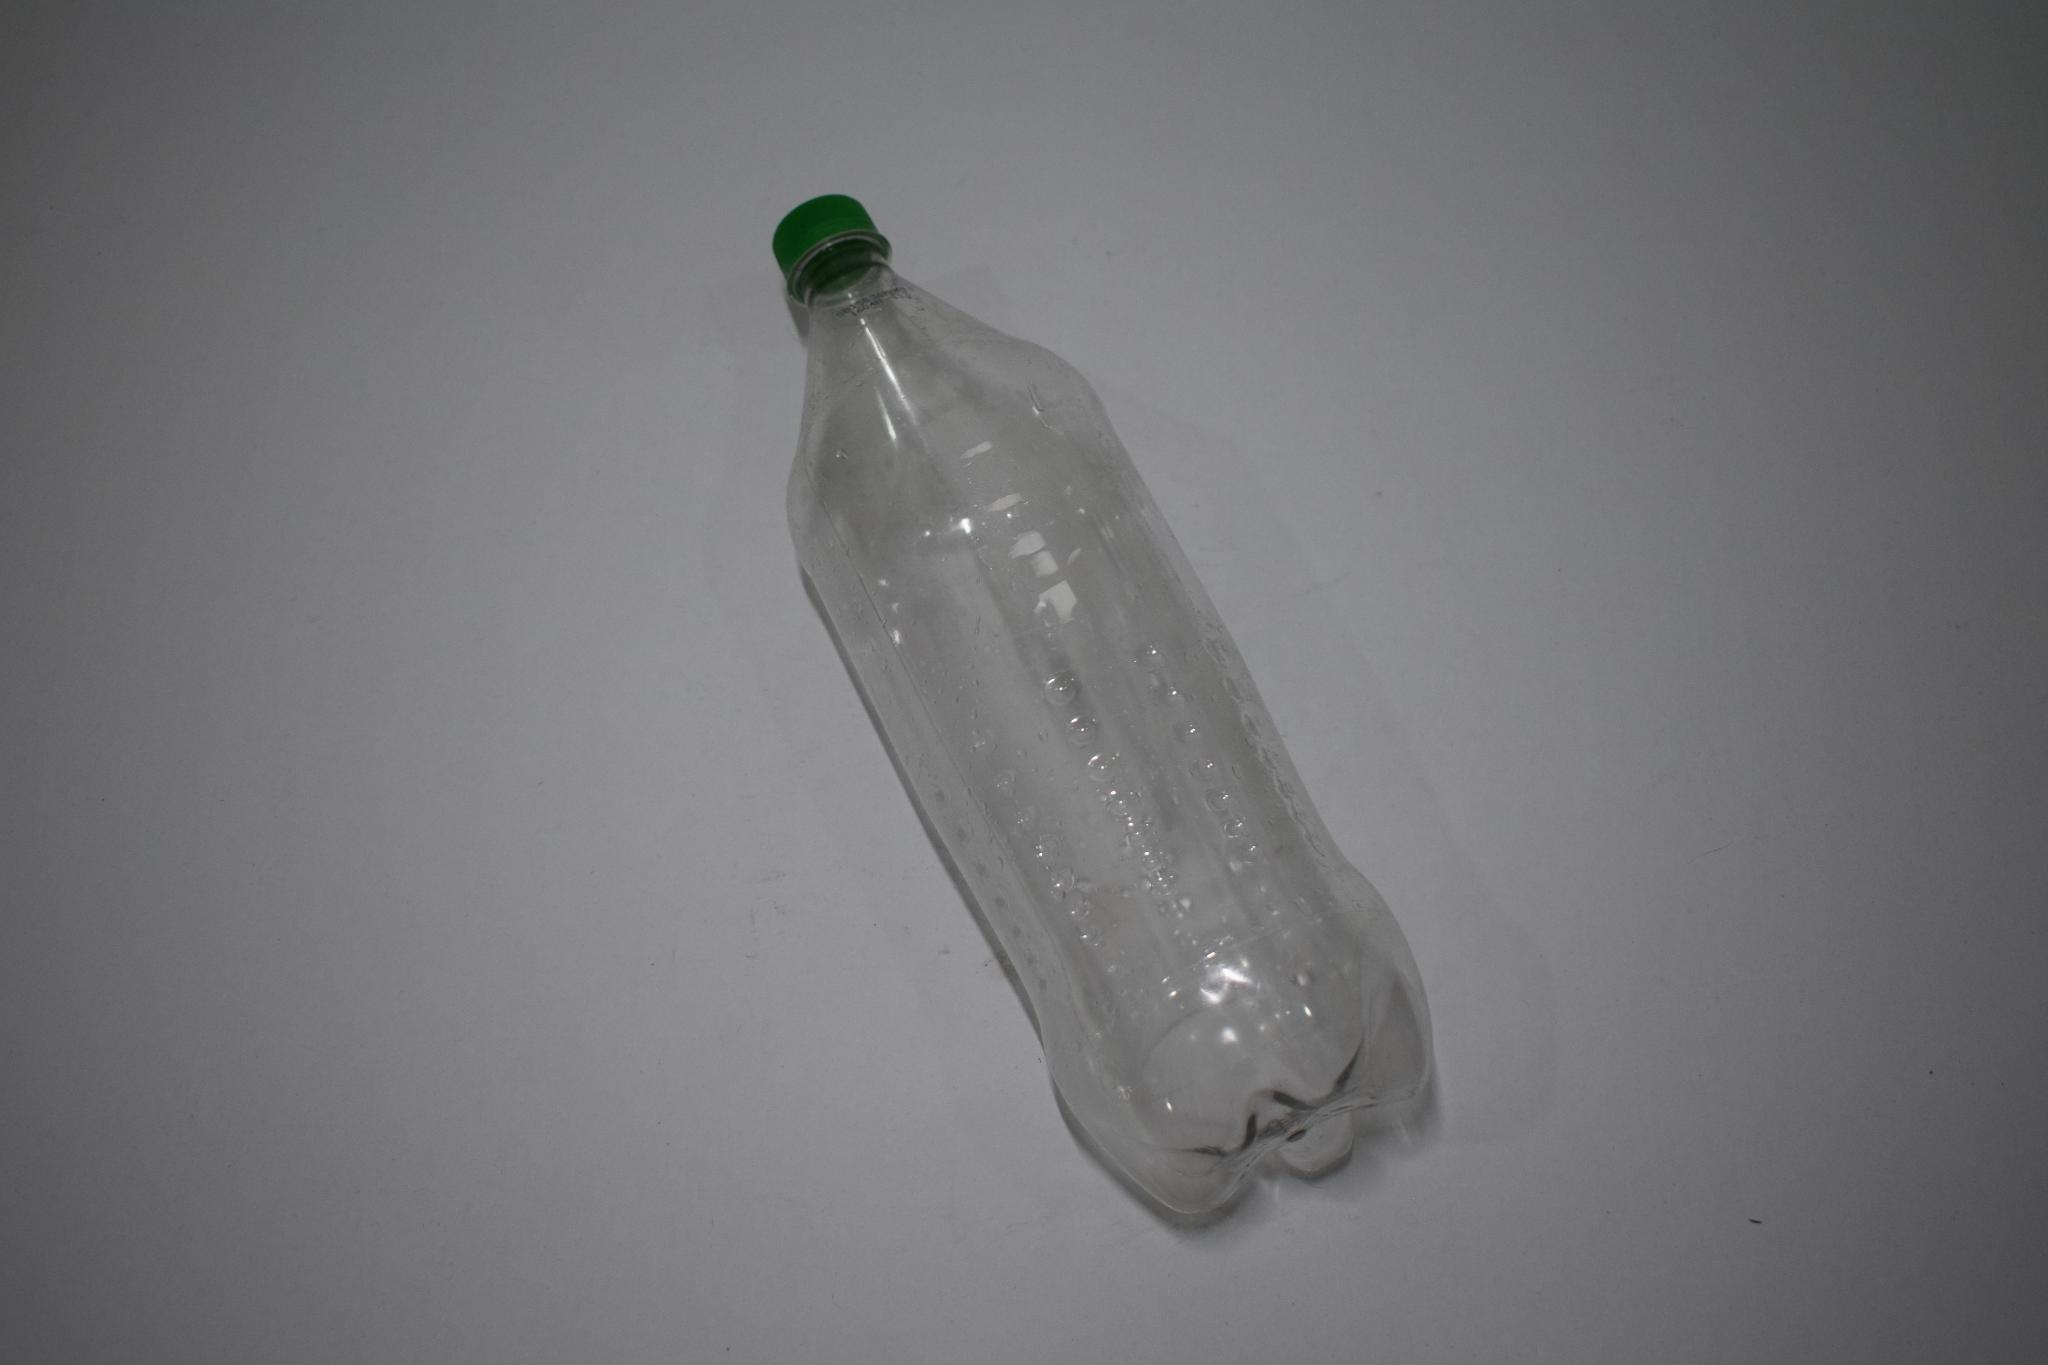bottle: (767, 187, 1456, 1228)
